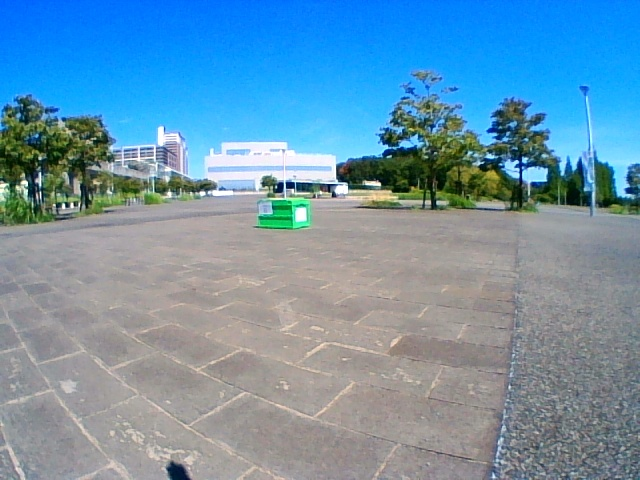green_box: (257, 199, 308, 229)
tag: (258, 203, 272, 214)
